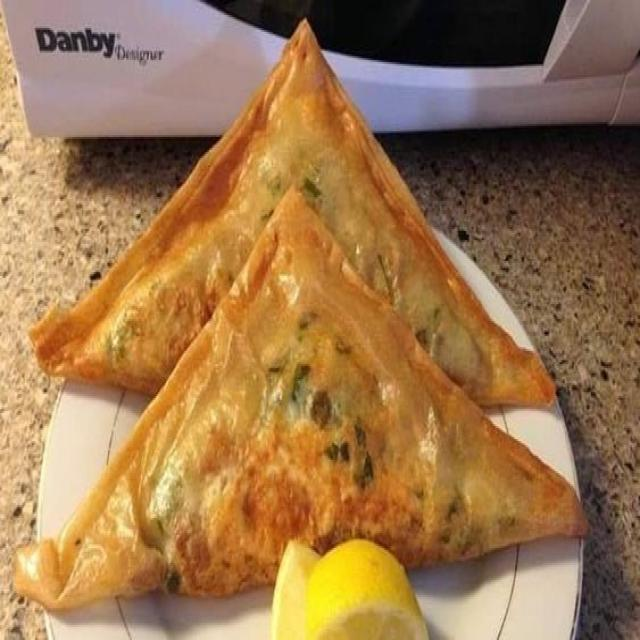brik: (62, 268, 591, 640), (32, 29, 556, 400)
